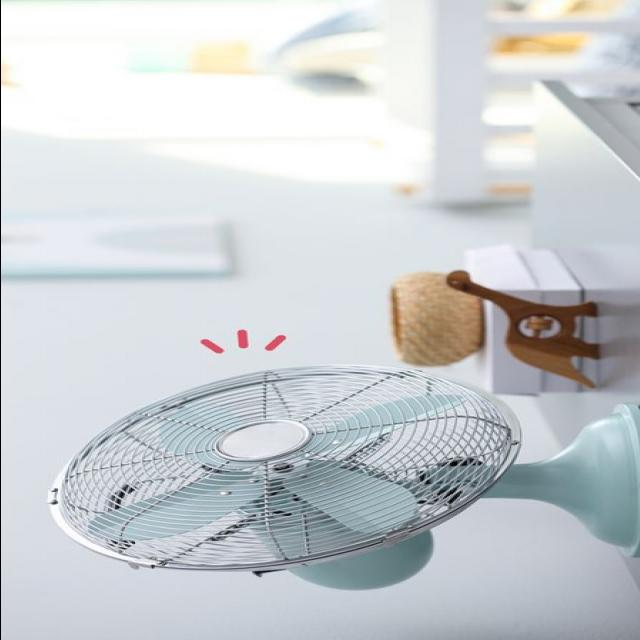fan: (41, 362, 634, 594)
